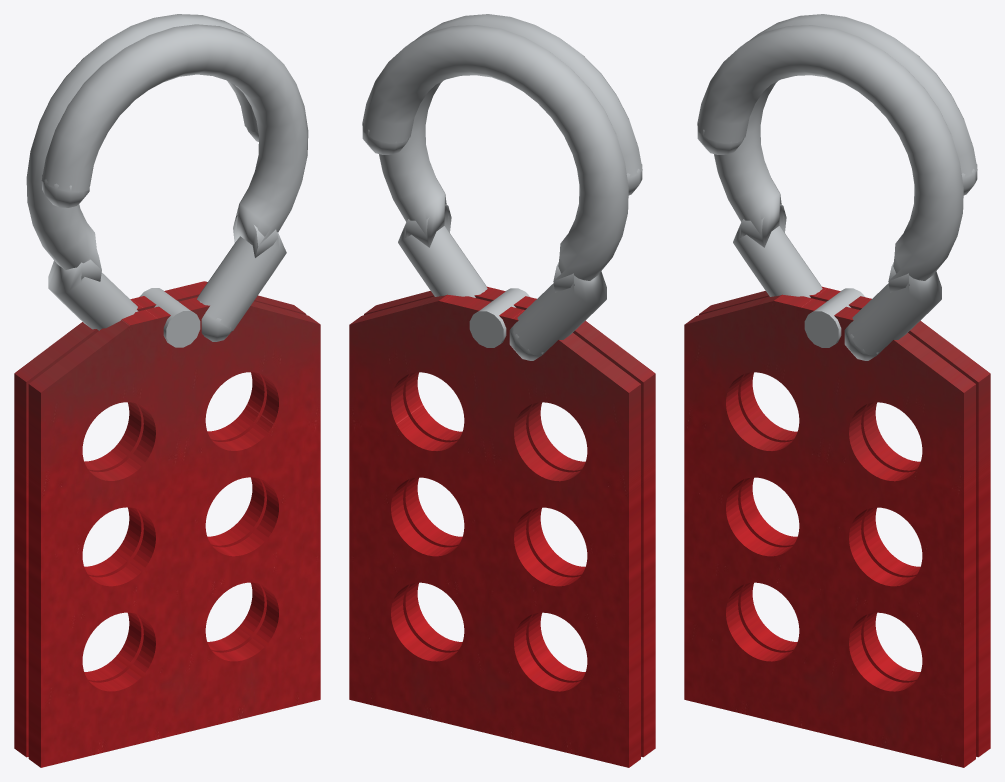
File: SM_Pince_Multilock.glb
3 renders of one model, left to right at view 1: azimuth 30°, elevation 25°; view 2: azimuth 150°, elevation 25°; view 3: azimuth 330°, elevation 25°, orthographic.
Visible parts, largest first — view 1: SM_Pince_Multilock; view 2: SM_Pince_Multilock; view 3: SM_Pince_Multilock.
Part boxes in pixels (x1=…): SM_Pince_Multilock: x1=14, y1=14, x2=320, y2=767; SM_Pince_Multilock: x1=349, y1=14, x2=655, y2=767; SM_Pince_Multilock: x1=684, y1=14, x2=990, y2=767.
Bounding box in the file's own units: 0.0406 × 0.097 × 0.01.
2 materials, 1 textured.
